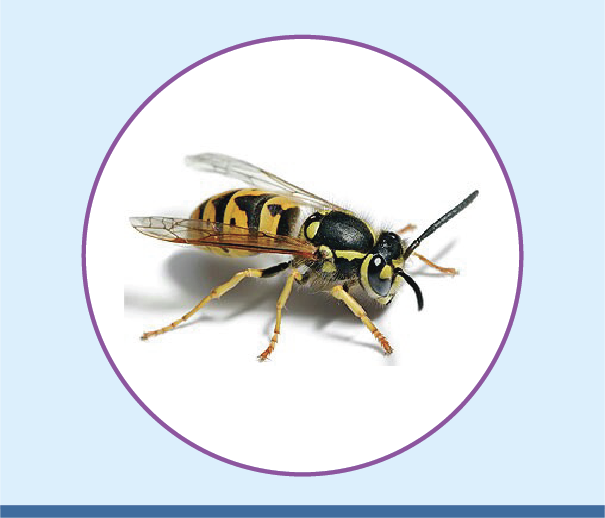chax: (125, 145, 488, 363)
